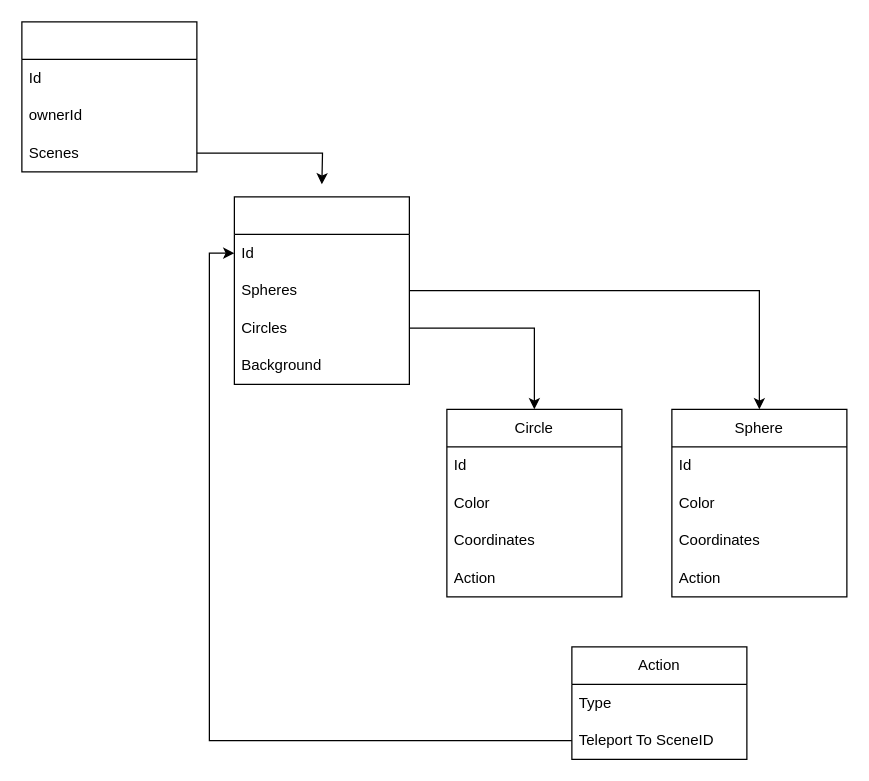
This 869x781 diagram has some shape labels left out. Each missing label, with the box of its shape:
Scene: (233, 196, 409, 384)
Tuor: (21, 21, 197, 172)
